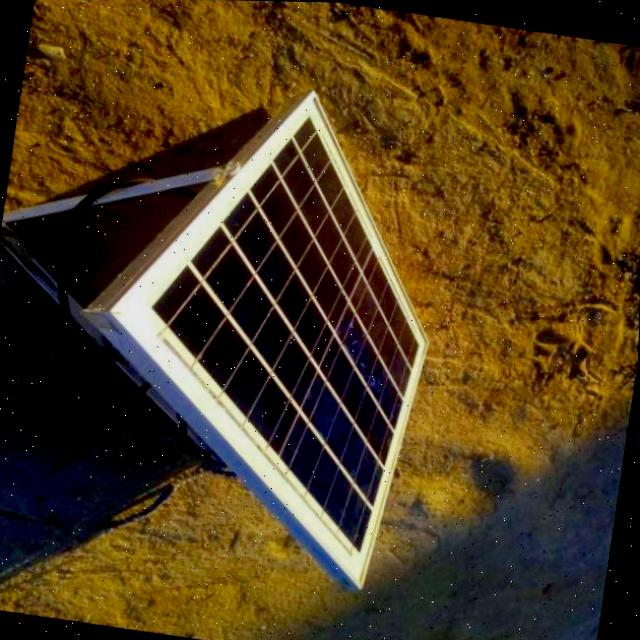Normal Solar Panel: (74, 69, 462, 589)
